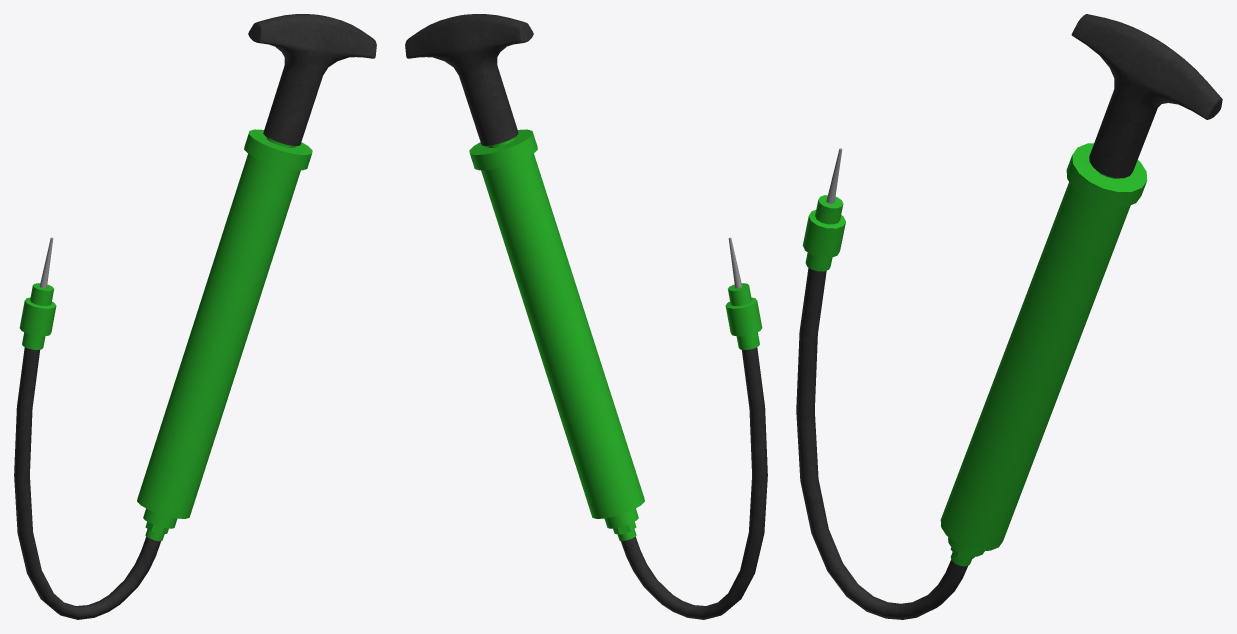
Rendered from pump.obj.
3 views of the same model, side by side, from view 1: azimuth 30°, elevation 25°; view 2: azimuth 150°, elevation 25°; view 3: azimuth 330°, elevation 25° (orthographic). The views are drawn at different scales.
Visible parts, largest first — view 1: pump_Cylinder.015; view 2: pump_Cylinder.015; view 3: pump_Cylinder.015.
Part boxes in pixels (bbox=[...]): pump_Cylinder.015: bbox=[14, 14, 376, 619]; pump_Cylinder.015: bbox=[405, 14, 767, 619]; pump_Cylinder.015: bbox=[796, 14, 1222, 619].
Size of the model in its own units: 0.4694 by 0.6932 by 0.0766.
